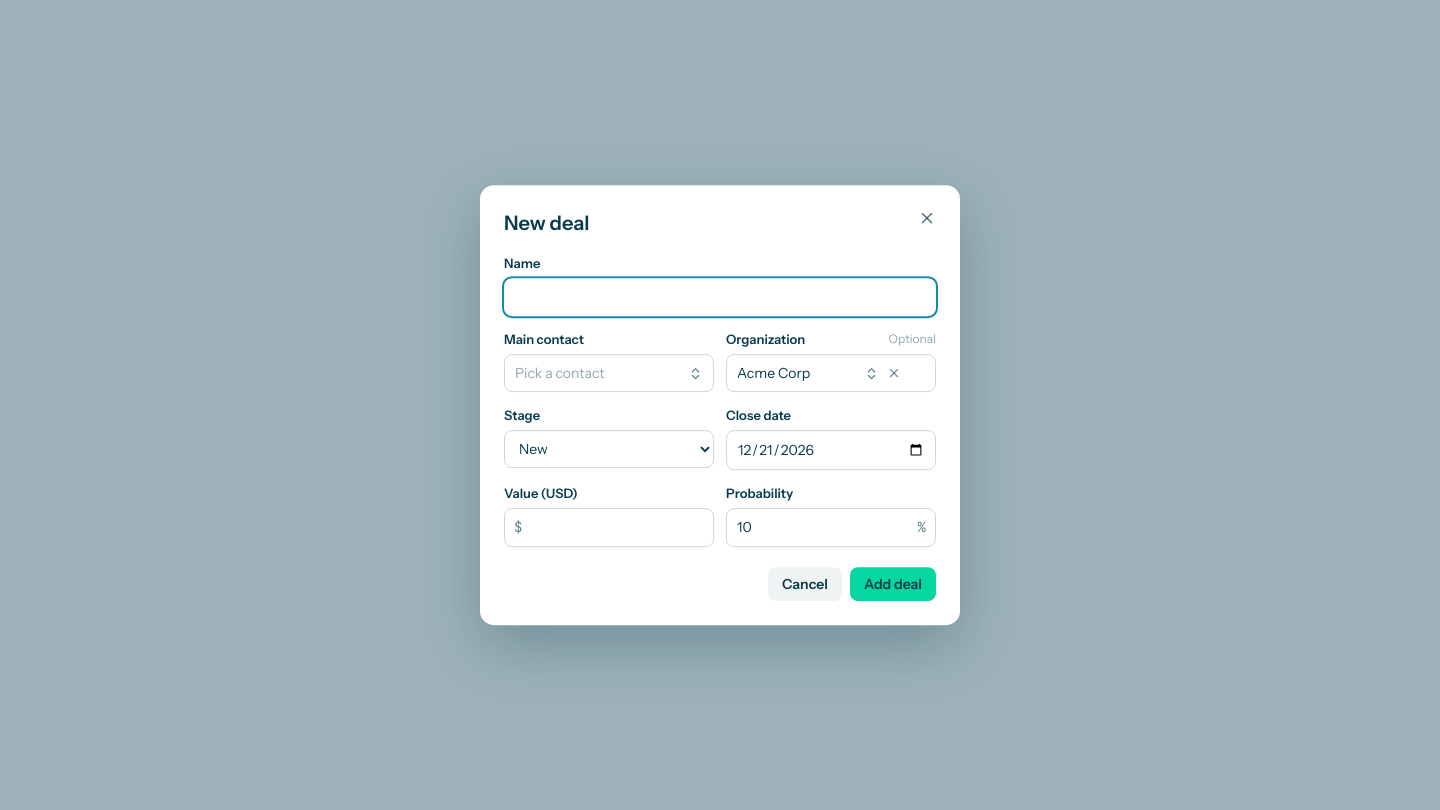
Test case: DealForm › clears the organization for a contact who has none
Expected: the dialog is shown, top-left (480, 185), bottom-right (960, 625)
Click the dropdown labelled "Pick a contact": (609, 373) top-left (504, 354), bottom-right (714, 392)
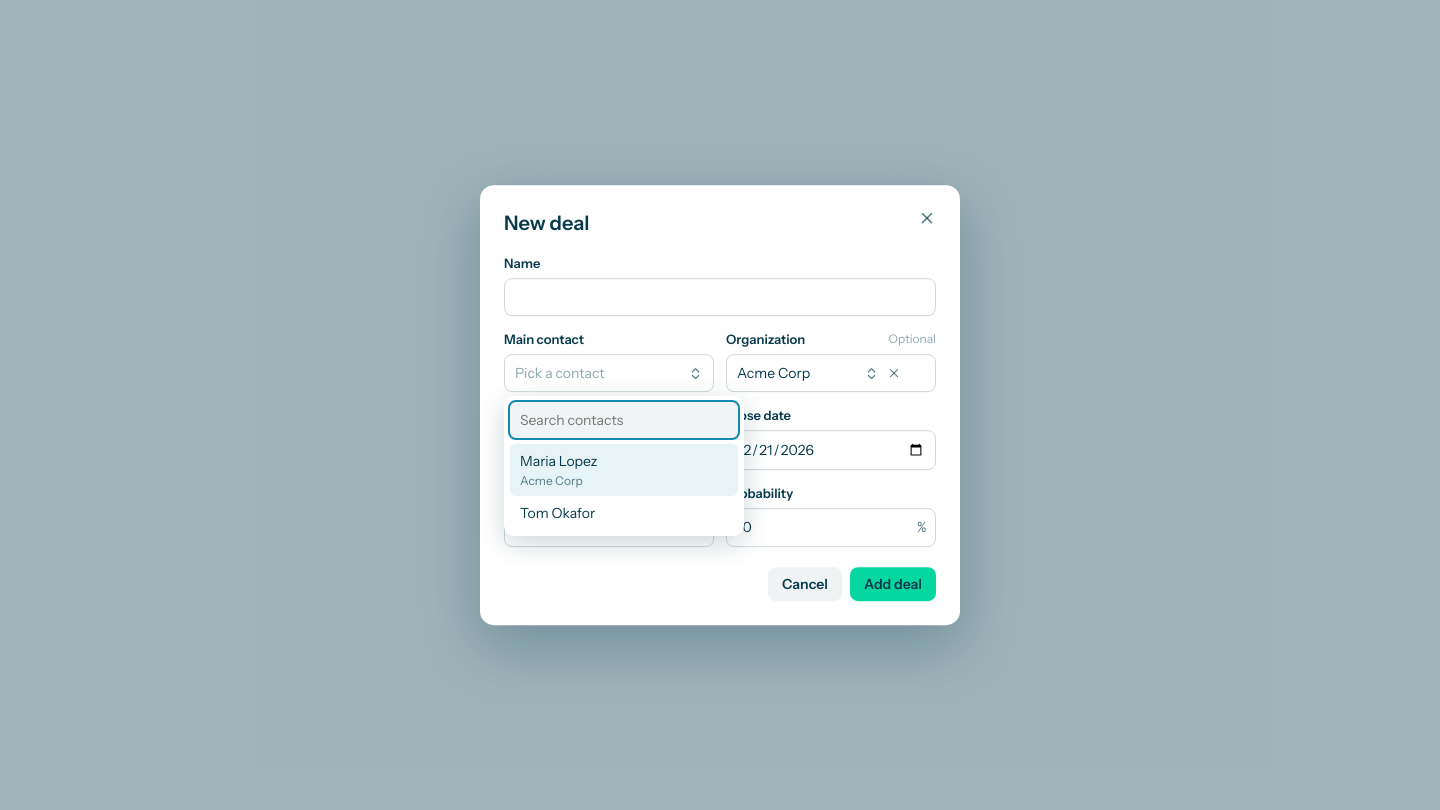
In the dropdown with placeholder "Search contacts": (624, 420) top-left (510, 402), bottom-right (738, 438), type "tom"
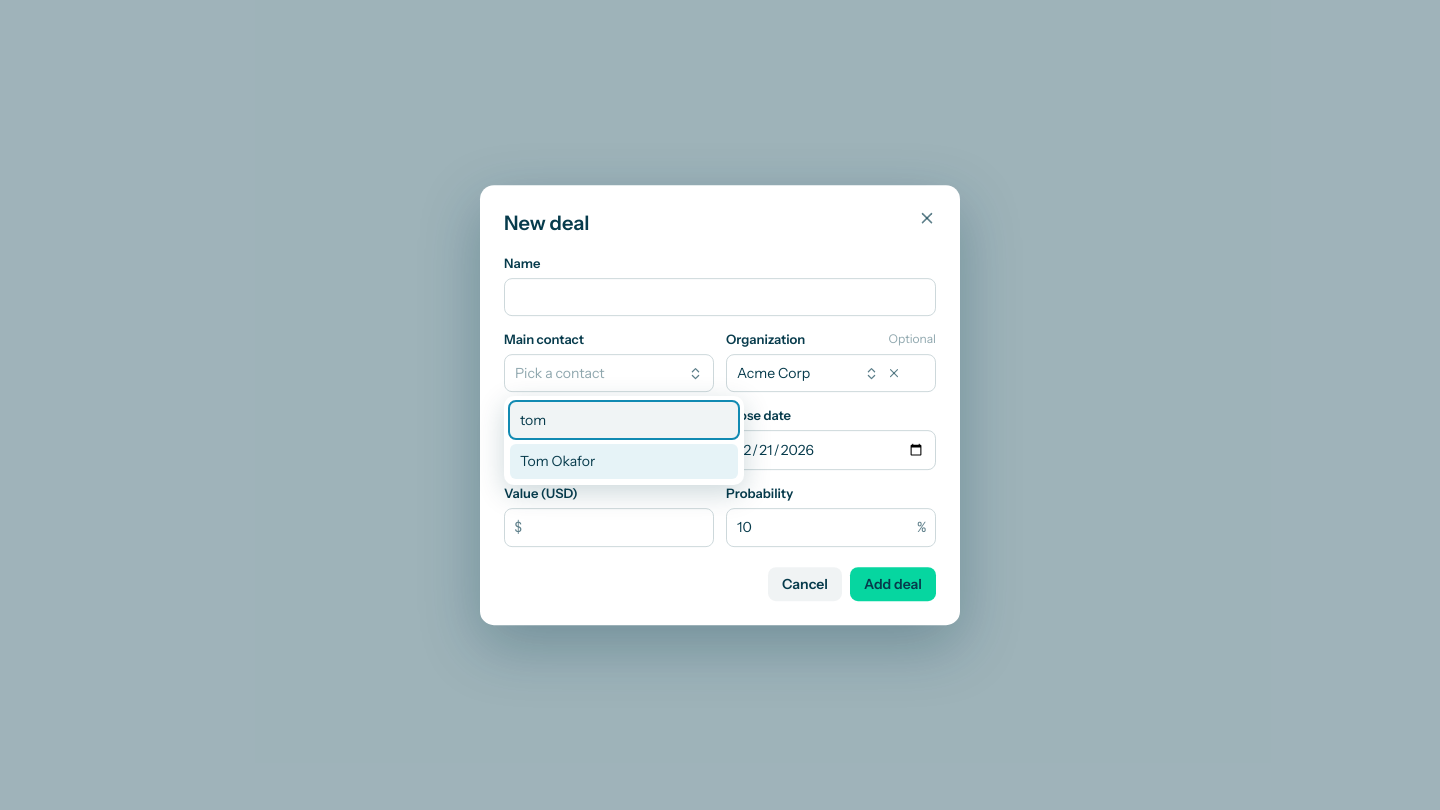
Click the option "Tom Okafor": (624, 461) top-left (510, 444), bottom-right (738, 479)
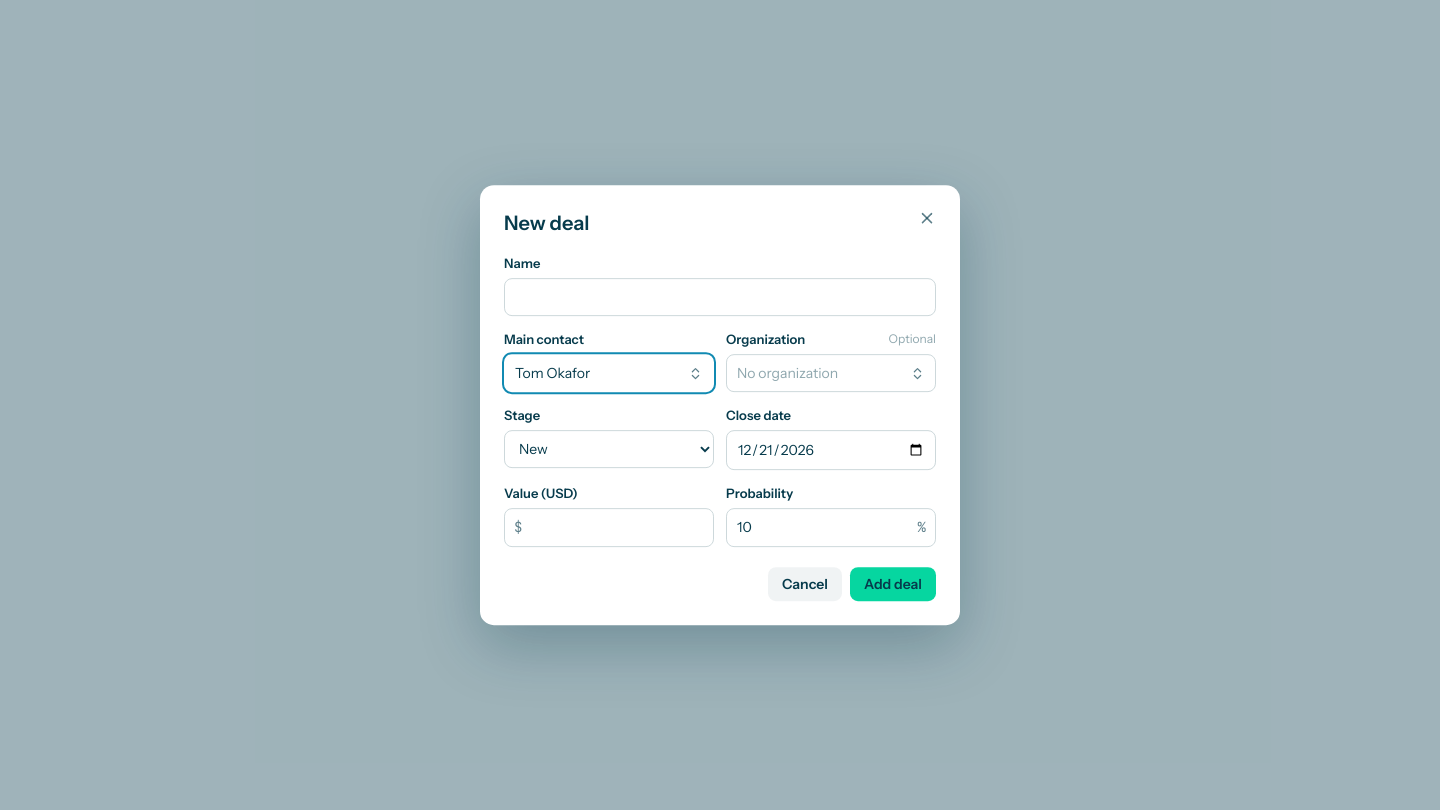
Result: the dropdown labelled "No organization" is shown at top-left (726, 354), bottom-right (936, 392)
